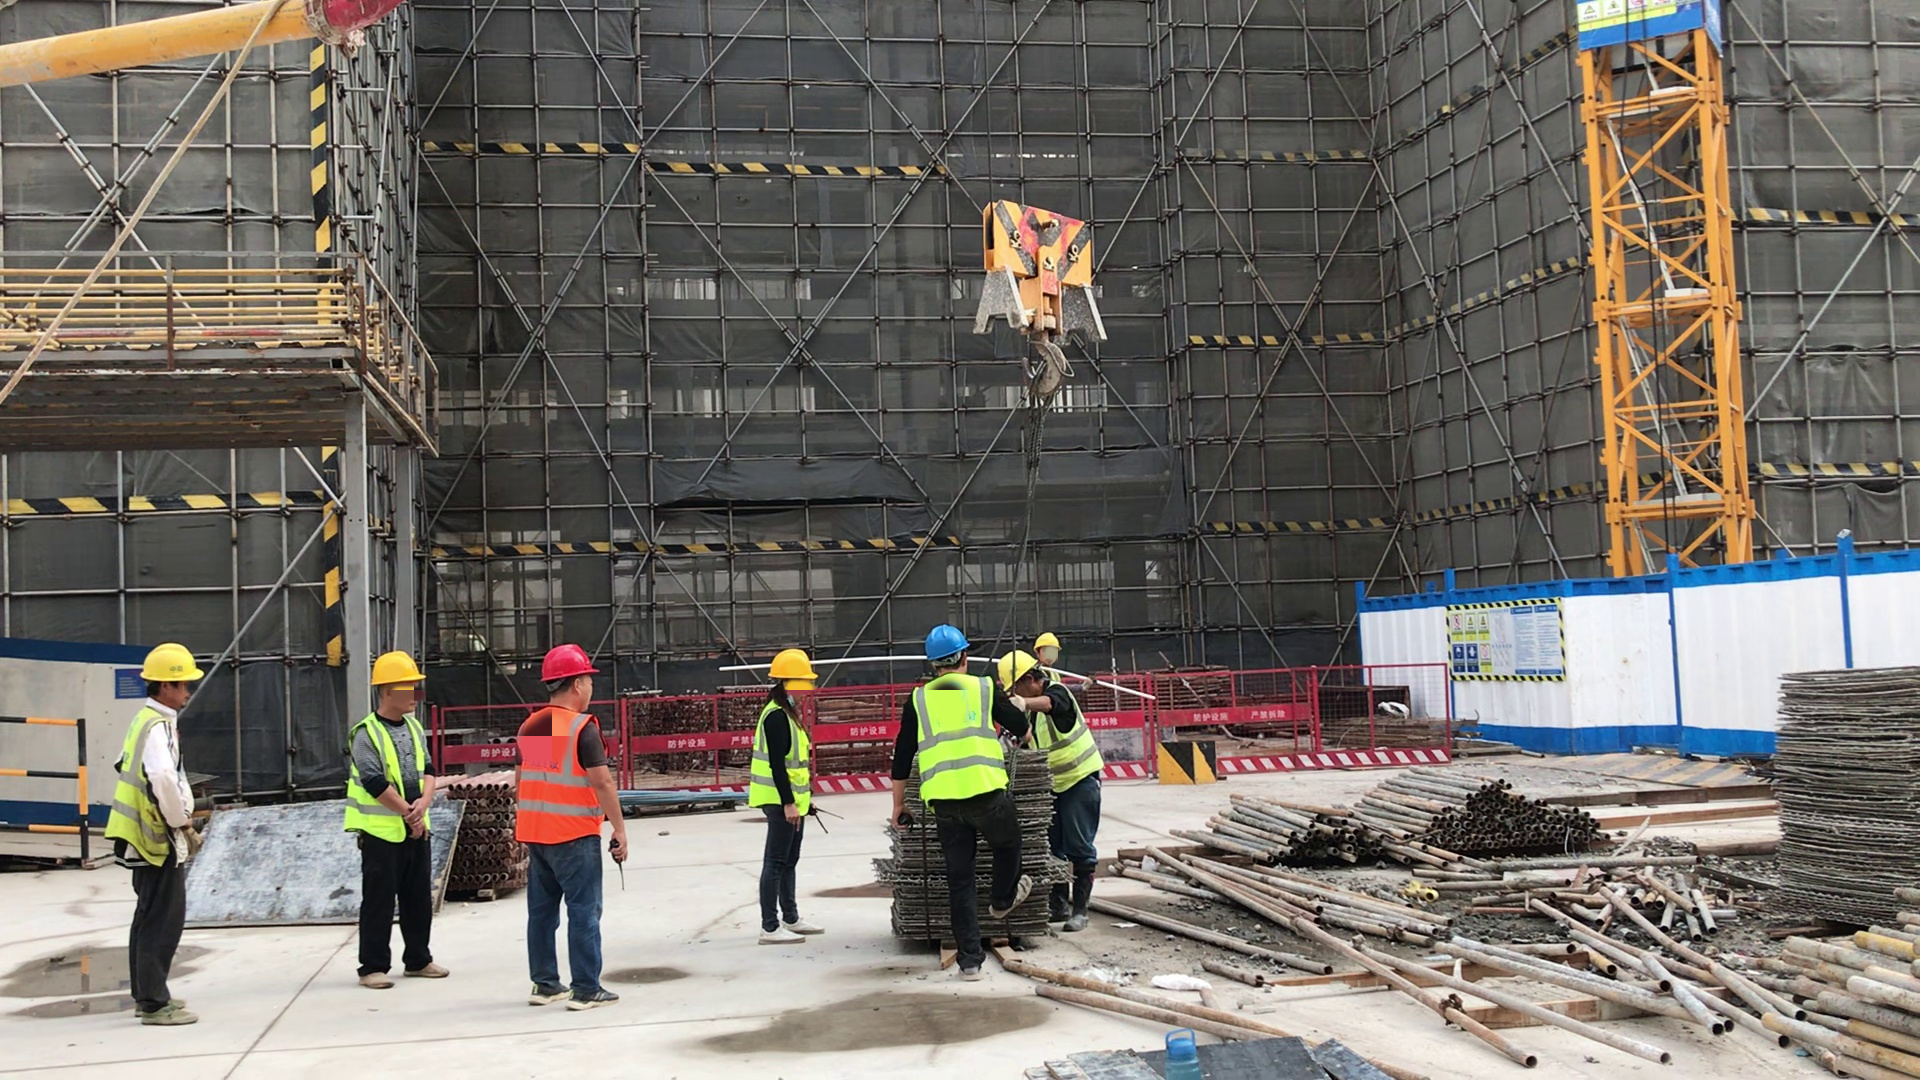fence: (1221, 664, 1465, 768), (617, 687, 740, 782), (1, 718, 84, 857), (821, 675, 888, 798), (1159, 664, 1218, 739)
helmet: (537, 647, 603, 682), (369, 652, 427, 688), (769, 649, 818, 683), (924, 626, 970, 659), (997, 652, 1037, 690), (1032, 634, 1060, 651)
hook: (959, 194, 1104, 397)
person: (888, 624, 1036, 985), (510, 646, 632, 1010), (340, 650, 455, 988), (108, 641, 204, 1034), (742, 647, 832, 946), (996, 649, 1097, 749), (1031, 632, 1062, 667)
scaffold: (1706, 894, 1920, 1079), (1370, 761, 1606, 856), (1173, 797, 1385, 878), (454, 769, 511, 912)
slogan: (1445, 602, 1559, 680), (1578, 1, 1724, 39)
vest: (909, 674, 1012, 803), (515, 707, 606, 846), (343, 711, 434, 844), (1039, 679, 1106, 793), (750, 701, 813, 820)
